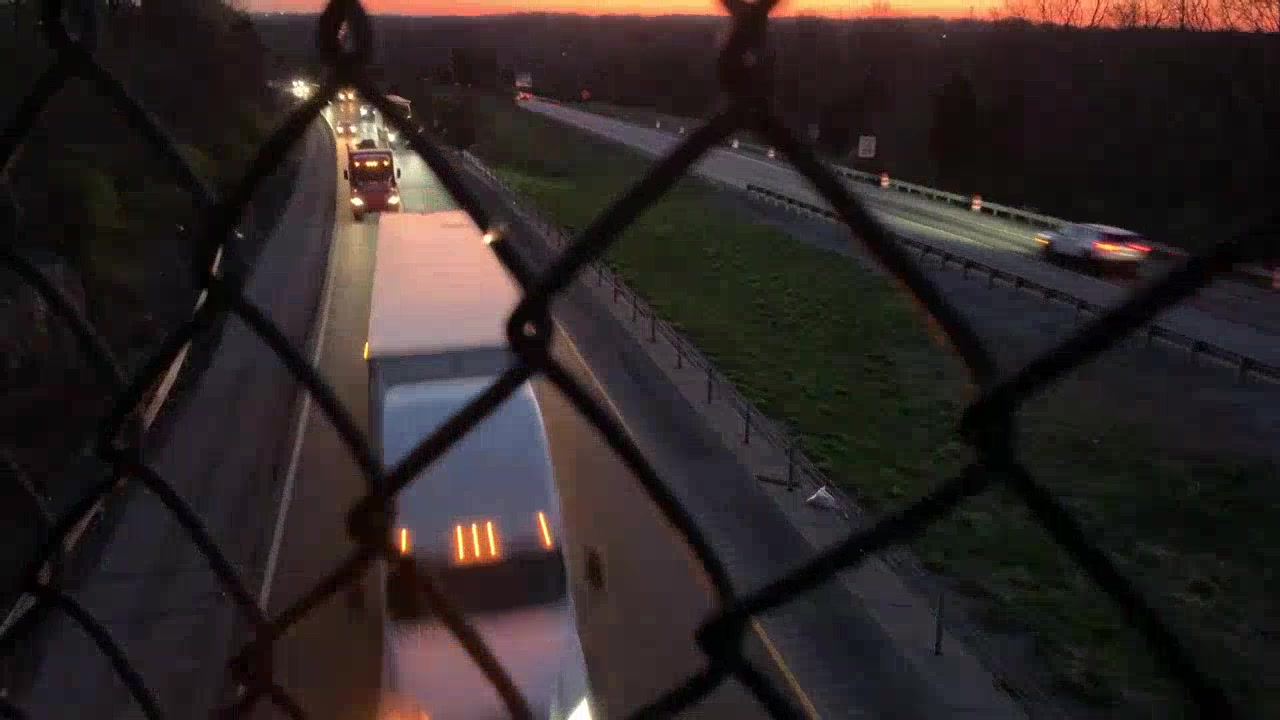heavyTruck: (358, 210, 568, 716), (339, 126, 405, 217)
largeCar: (1032, 218, 1148, 281)
